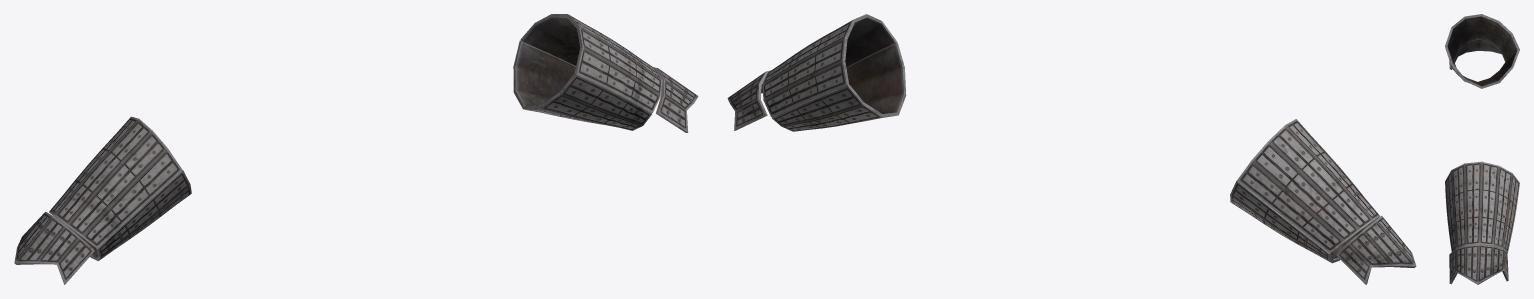
Rendered from sk_dwarf_iron_bracer_med_b2.fbx.
3 renders of one model, left to right at view 1: azimuth 30°, elevation 25°; view 2: azimuth 150°, elevation 25°; view 3: azimuth 270°, elevation 25°, orthographic. The views are drawn at different scales.
Parts seen in each view (by area): view 1: sk_dwarf_iron_bracer_med_b2; view 2: sk_dwarf_iron_bracer_med_b2; view 3: sk_dwarf_iron_bracer_med_b2.
Boxes of the visible parts, bbox=[...] form: sk_dwarf_iron_bracer_med_b2: bbox=[14, 14, 698, 284]; sk_dwarf_iron_bracer_med_b2: bbox=[727, 14, 1416, 284]; sk_dwarf_iron_bracer_med_b2: bbox=[1445, 14, 1519, 284].
Size of the model in its own units: 1.34 by 0.1805 by 0.2376.
